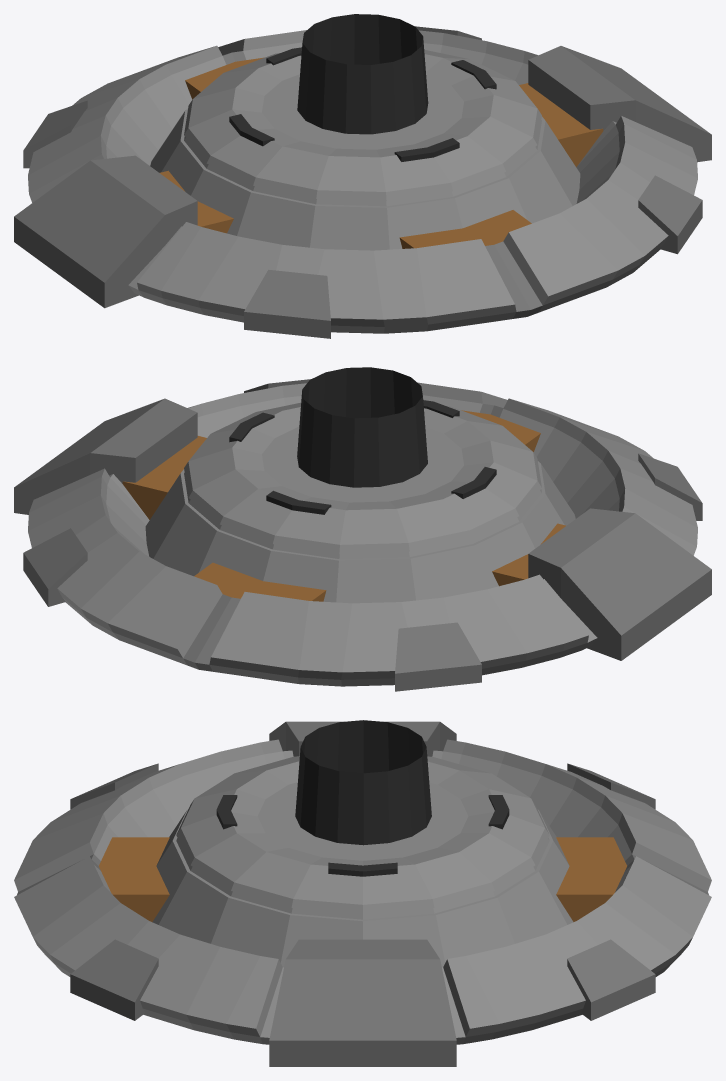
The model's file is TurretBase.fbx.
The picture shows the model from 3 angles, top to bottom: view 1: azimuth 30°, elevation 25°; view 2: azimuth 150°, elevation 25°; view 3: azimuth 270°, elevation 25°; orthographic projection. The views are drawn at different scales.
Visible parts, largest first — view 1: Turret_Gun_Base; view 2: Turret_Gun_Base; view 3: Turret_Gun_Base.
Part boxes in pixels (<box>): Turret_Gun_Base: <box>14,14,711,338</box>; Turret_Gun_Base: <box>14,367,711,691</box>; Turret_Gun_Base: <box>14,720,711,1066</box>.
Size of the model in its own units: 116 by 29.39 by 111.
